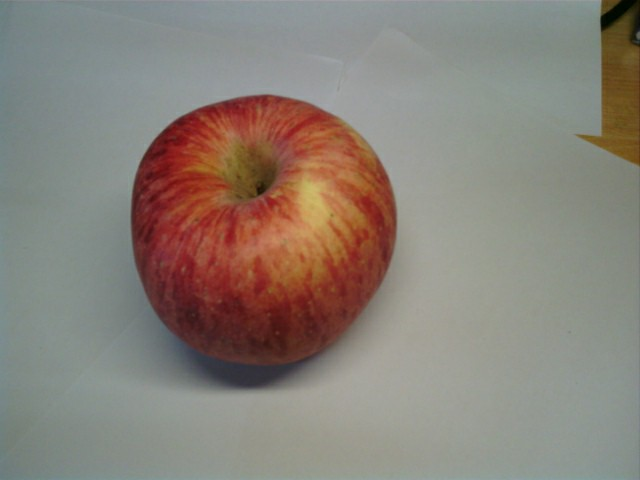normal_apple: (128, 97, 399, 365)
